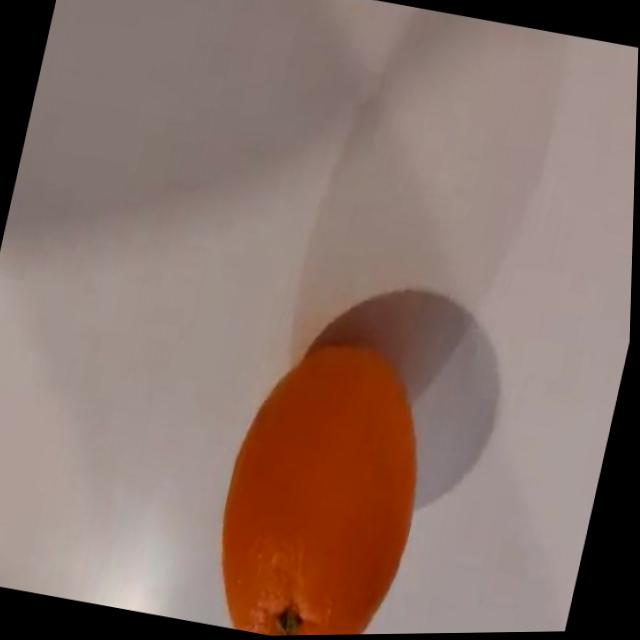Orange: (197, 322, 452, 638)
